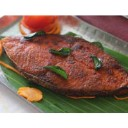seerfish: (2, 34, 128, 90)
